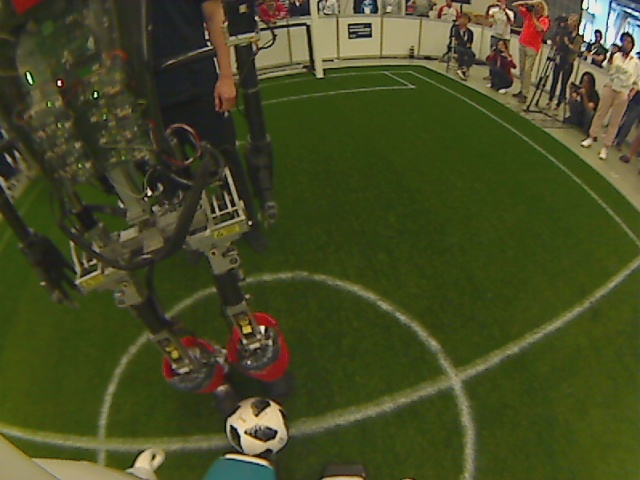ball: (221, 395, 295, 464)
